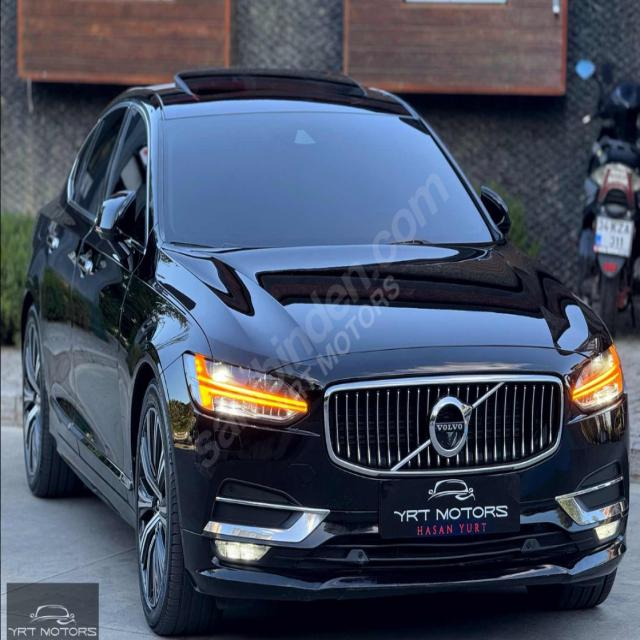volvo: (426, 391, 474, 461)
